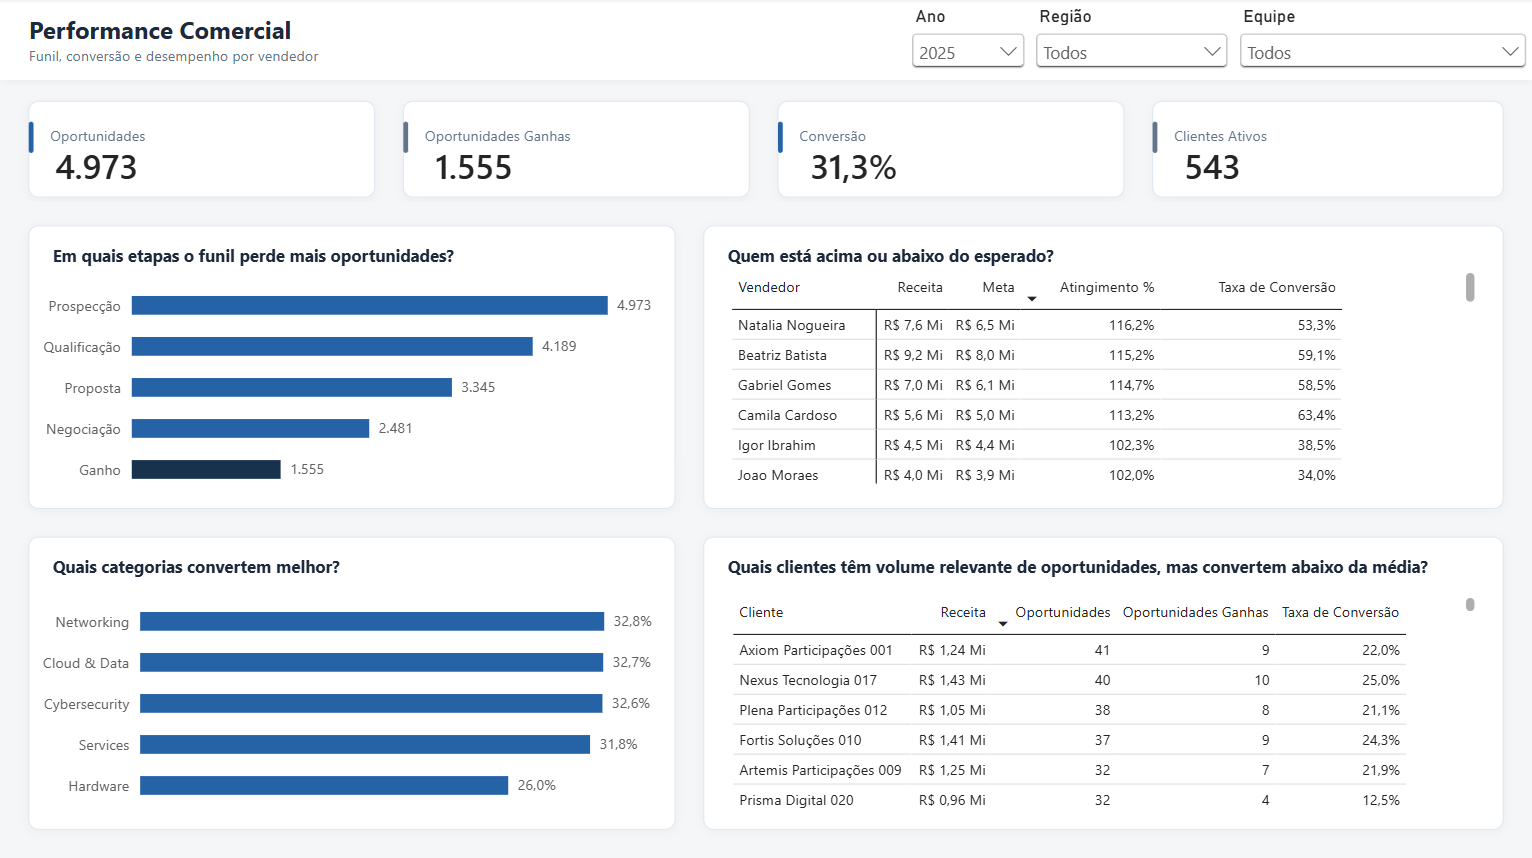

This screenshot's page, from the dashboard's own definition file:
{"tool":"powerbi","page":{"name":"Funil Comercial","canvas":[1280,720],"ordinal":1},"visuals":[{"type":"cardVisual","fields":{"Data":["_Medidas.Oportunidades"]},"box":[30.1,103.6,138.7,73.5],"z":0},{"type":"cardVisual","fields":{"Data":["_Medidas.Taxa de Conversão"]},"box":[1640,0,280,280],"z":1000},{"type":"cardVisual","fields":{"Data":["_Medidas.Taxa de Conversão"]},"box":[660.7,103.6,138.7,73.5],"z":2000},{"type":"cardVisual","fields":{"Data":["_Medidas.Oportunidades Ganhas"]},"box":[347.5,103.6,138.7,73.5],"z":3000},{"type":"cardVisual","fields":{"Data":["_Medidas.Clientes Ativos"]},"box":[973.1,103.6,138.7,73.5],"z":4000},{"type":"slicer","fields":{"Values":["DimDate.Year"]},"box":[756.8,6.7,103.6,59.3],"z":5000},{"type":"slicer","fields":{"Values":["DimSeller.Region"]},"box":[860.3,6.7,170.4,59.3],"z":6000},{"type":"slicer","fields":{"Values":["DimSeller.TeamName"]},"box":[1030.7,6.7,248.9,59.3],"z":7000},{"type":"barChart","fields":{"Category":["FactPipeline.Stage"],"Y":["_Medidas.Oportunidades"]},"box":[30.1,222.2,529.6,199.6],"z":7001},{"type":"pivotTable","fields":{"Rows":["DimSeller.SellerName"],"Values":["_Medidas.Receita","_Medidas.Meta","_Medidas.Atingimento %","_Medidas.Taxa de Conversão"]},"box":[595.5,214.7,653.2,207.1],"z":7002},{"type":"barChart","fields":{"Category":["DimProduct.Category"],"Y":["_Medidas.Taxa de Conversão"]},"box":[30.1,486.1,529.6,199.6],"z":7003},{"type":"tableEx","fields":{"Values":["DimCustomer.CustomerName","_Medidas.Receita","_Medidas.Oportunidades","_Medidas.Oportunidades Ganhas","_Medidas.Taxa de Conversão"]},"box":[595.5,486.1,653.2,207.1],"z":7004}]}

Visuals, with their boxes in screenshot pixels (x1, y1, x2, y2), scaled from the page's 1280x720 canvas onto the 1532x858 screenshot:
cardVisual - _Medidas.Oportunidades: l=36, t=123, r=202, b=211
cardVisual - _Medidas.Taxa de Conversão: l=791, t=123, r=957, b=211
cardVisual - _Medidas.Oportunidades Ganhas: l=416, t=123, r=582, b=211
cardVisual - _Medidas.Clientes Ativos: l=1165, t=123, r=1331, b=211
slicer - DimDate.Year: l=906, t=8, r=1030, b=79
slicer - DimSeller.Region: l=1030, t=8, r=1234, b=79
slicer - DimSeller.TeamName: l=1234, t=8, r=1531, b=79
barChart - FactPipeline.Stage x _Medidas.Oportunidades: l=36, t=265, r=670, b=503
pivotTable - DimSeller.SellerName x _Medidas.Receita: l=713, t=256, r=1495, b=503
barChart - DimProduct.Category x _Medidas.Taxa de Conversão: l=36, t=579, r=670, b=817
tableEx - DimCustomer.CustomerName x _Medidas.Receita: l=713, t=579, r=1495, b=826
